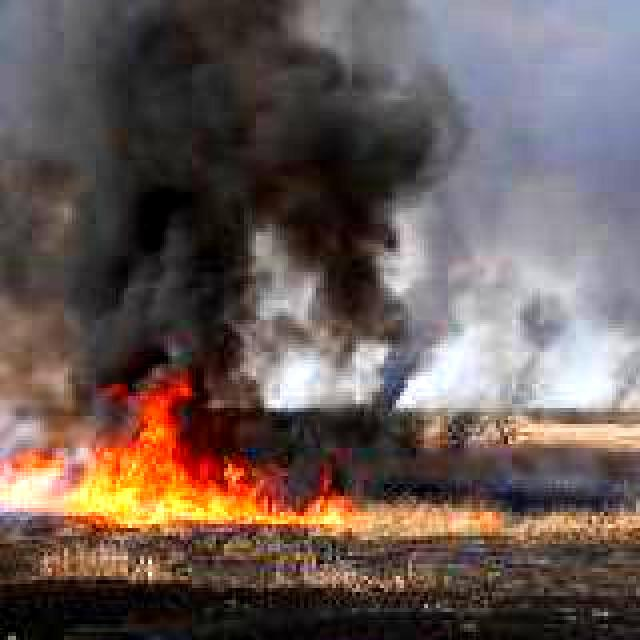smoke: (0, 0, 432, 372), (500, 288, 568, 416), (372, 284, 428, 408), (604, 288, 640, 416)
